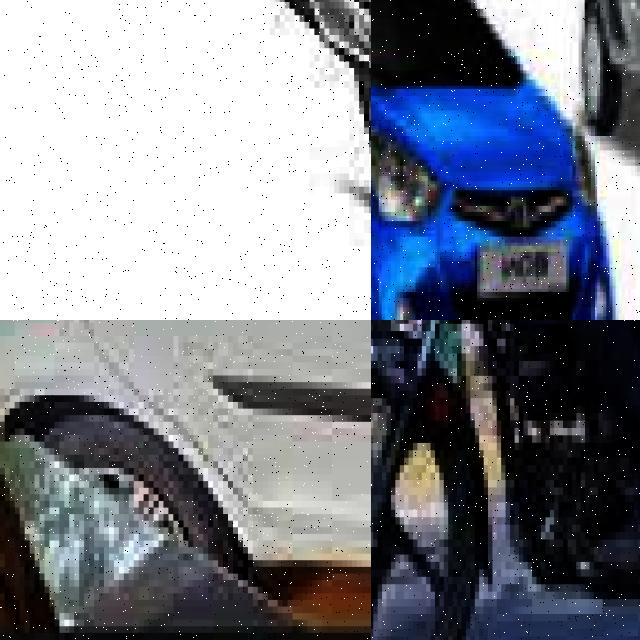bike: (371, 320, 640, 640), (275, 0, 371, 320)
car: (0, 320, 371, 606), (371, 0, 613, 320), (569, 0, 640, 153)
